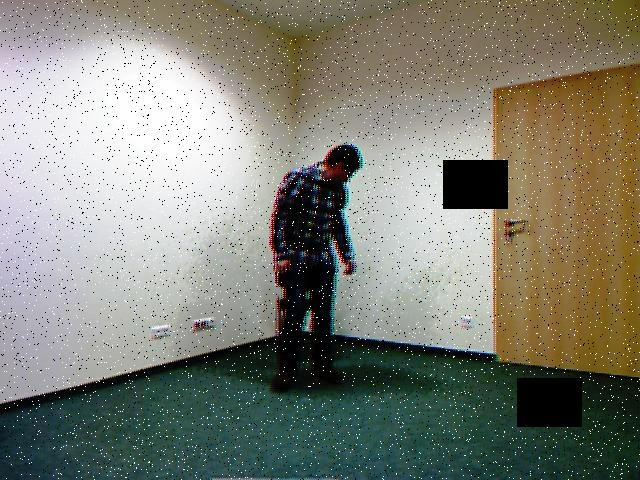walking: (263, 120, 372, 400)
